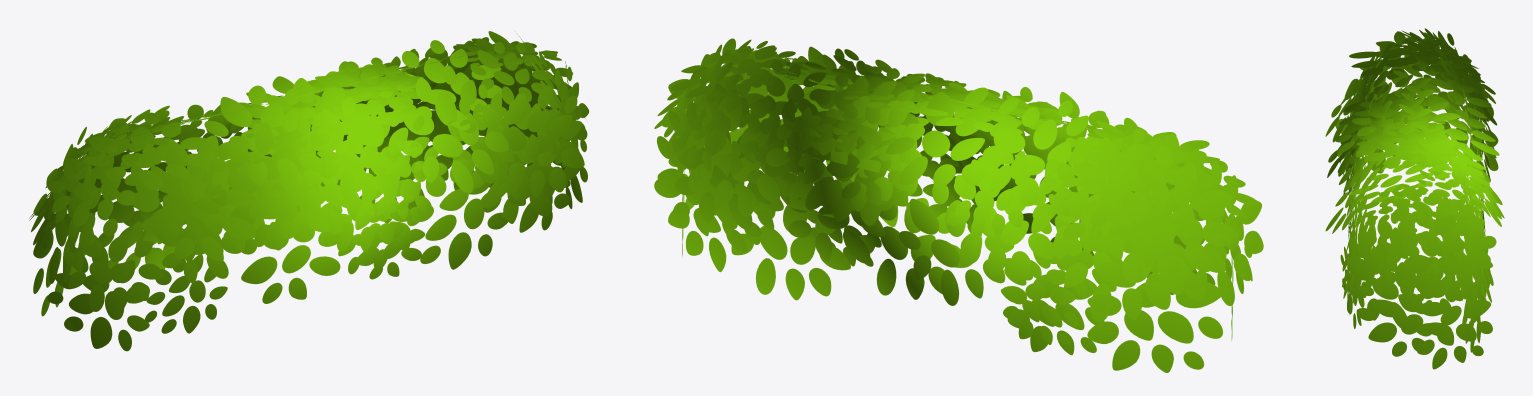
File: Bush_Small.glb
3 views of the same model, side by side, from view 1: azimuth 30°, elevation 25°; view 2: azimuth 150°, elevation 25°; view 3: azimuth 270°, elevation 25° (orthographic). The views are drawn at different scales.
Parts seen in each view (by area): view 1: Bush_Small; view 2: Bush_Small; view 3: Bush_Small.
Part boxes in pixels (x1,y1,x2,y2): Bush_Small: [29, 31, 589, 351]; Bush_Small: [654, 38, 1263, 372]; Bush_Small: [1325, 28, 1504, 369].
Size of the model in its own units: 1.9 by 0.7784 by 0.7238.
Materials: 1 (1 with a texture image).
